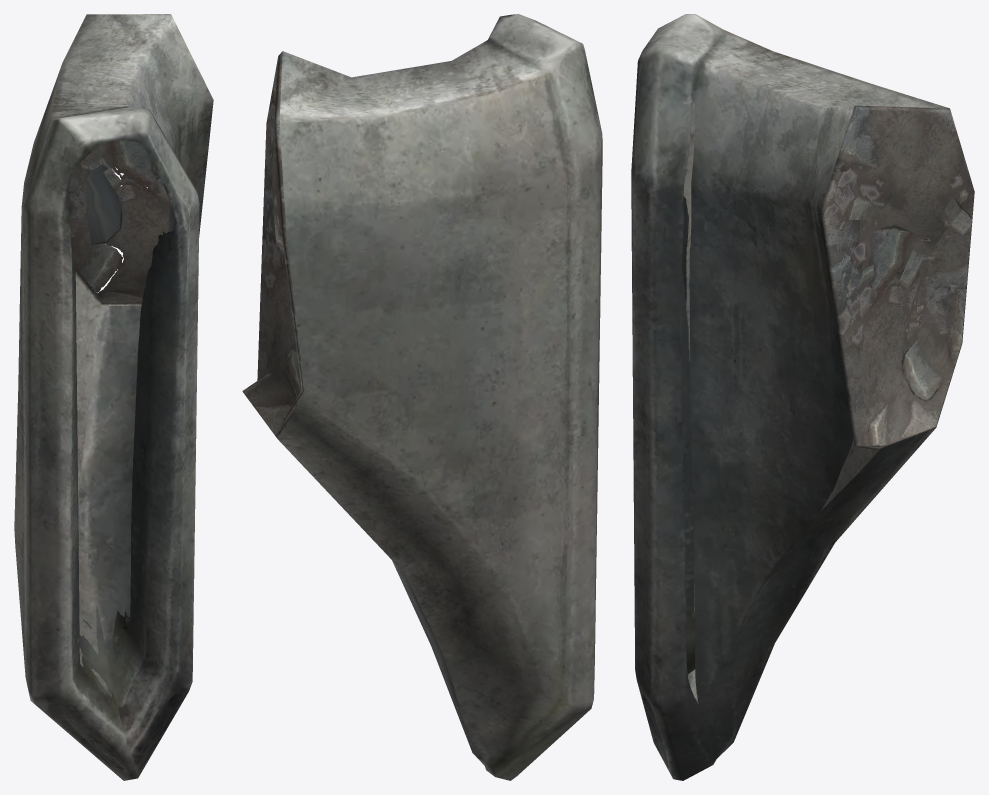
3 views of the same model, side by side, from view 1: azimuth 30°, elevation 25°; view 2: azimuth 150°, elevation 25°; view 3: azimuth 270°, elevation 25° (orthographic). The views are drawn at different scales.
Parts seen in each view (by area): view 1: SM_SaradominTemple_Statue_01v9_LOD0; view 2: SM_SaradominTemple_Statue_01v9_LOD0; view 3: SM_SaradominTemple_Statue_01v9_LOD0.
Boxes of the visible parts, box(x1,y1,x2,y2) form: SM_SaradominTemple_Statue_01v9_LOD0: box(14, 14, 213, 780); SM_SaradominTemple_Statue_01v9_LOD0: box(242, 14, 602, 780); SM_SaradominTemple_Statue_01v9_LOD0: box(631, 14, 974, 780).
Size of the model in its own units: 1.71 by 4.62 by 1.95.
2 materials, 2 textured.
